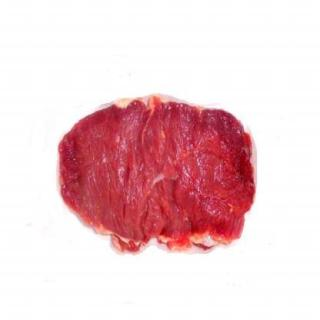Daging Sapi: (58, 97, 258, 254)
